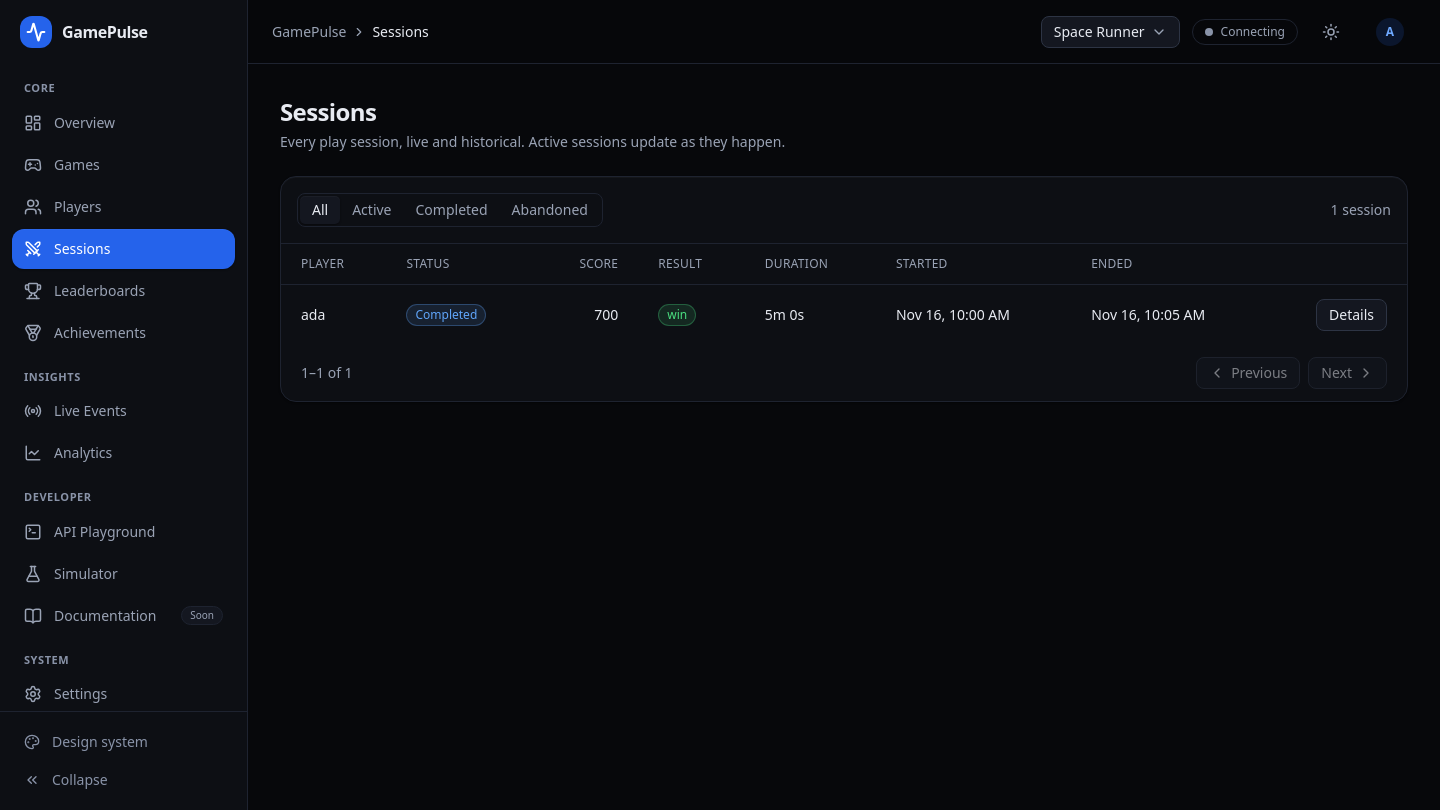
it: Sessions page › opens a detail view with the session’s events
Step 1. Click the button with aria-label "details for session s1abcdef" → click(1352, 315), box [1316,299,1387,331]
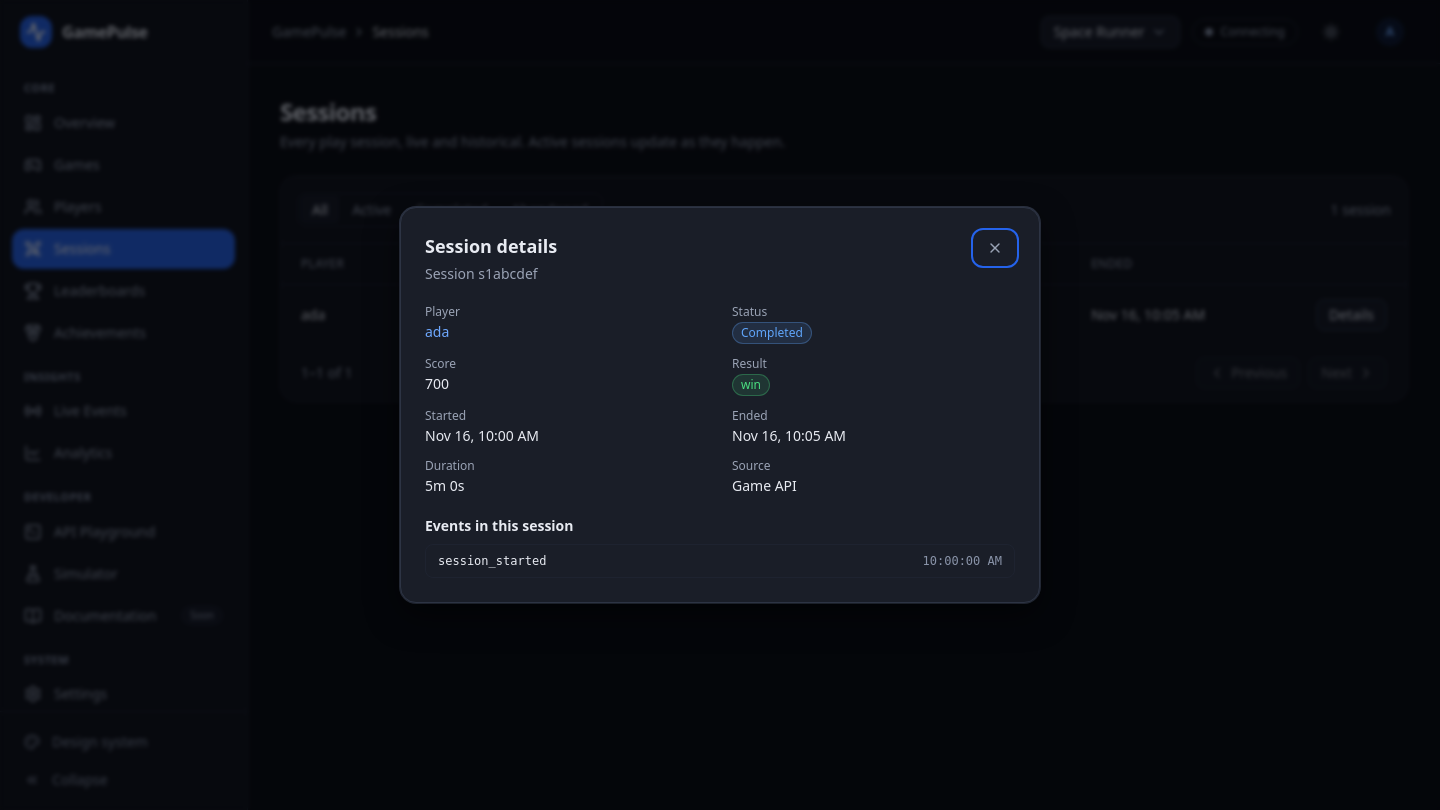
Expected: the text "Completed" is shown, [732,322,812,344]
Expected: the text "session_started" is shown, [438,553,546,569]
